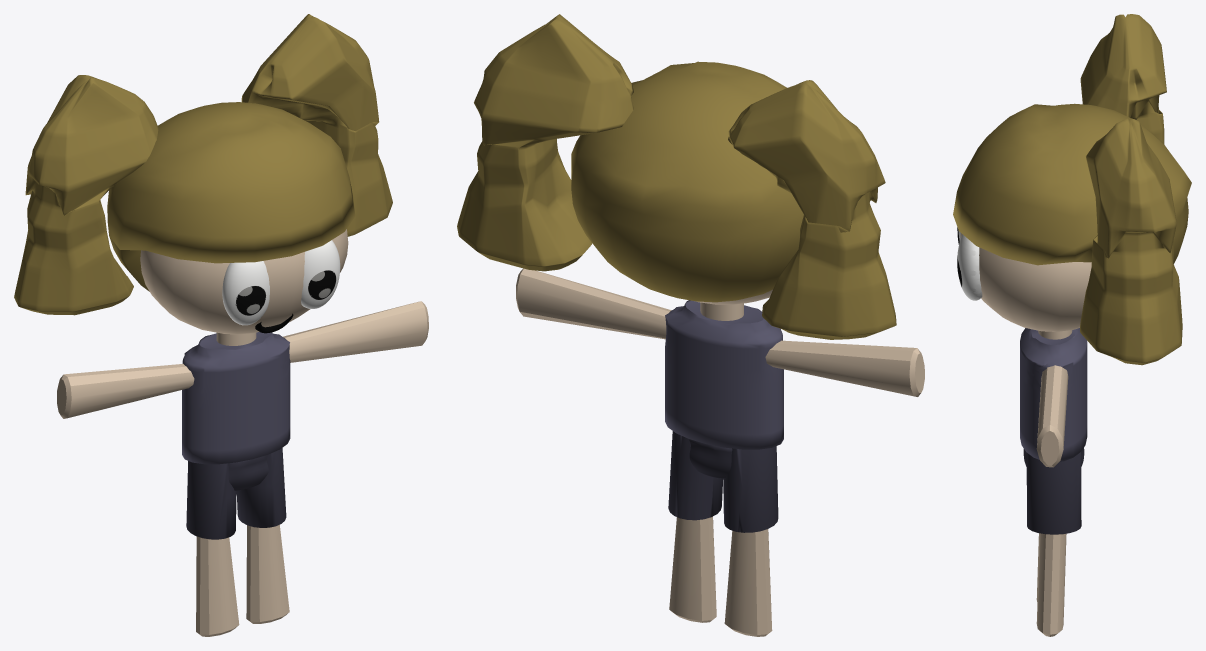
File: fefe.fbx
3 views of the same model, side by side, from view 1: azimuth 30°, elevation 25°; view 2: azimuth 150°, elevation 25°; view 3: azimuth 270°, elevation 25° (orthographic). The views are drawn at different scales.
Parts seen in each view (by area): view 1: pasted__polySurface13, polySurface2, polySurface15, polySurface1, polySurface5, polySurface4, polySurface3, polySurface8, polySurface10, polySurface9, polySurface14, polySurface7; view 2: pasted__polySurface13, polySurface2, polySurface1, polySurface5, polySurface4, polySurface3, polySurface8, polySurface9, polySurface7, polySurface11; view 3: pasted__polySurface13, polySurface15, polySurface2, polySurface9, polySurface3, polySurface1, polySurface14.
Boxes of the visible parts, x1,y1,x2,y2 form: pasted__polySurface13: [14, 14, 392, 315]; polySurface2: [182, 332, 290, 464]; polySurface15: [140, 229, 348, 334]; polySurface1: [282, 301, 428, 362]; polySurface5: [57, 364, 194, 418]; polySurface4: [196, 536, 239, 636]; polySurface3: [246, 525, 289, 623]; polySurface8: [186, 461, 236, 539]; polySurface10: [222, 261, 269, 325]; polySurface9: [236, 448, 286, 527]; polySurface14: [301, 240, 340, 308]; polySurface7: [228, 455, 268, 490]; pasted__polySurface13: [457, 14, 896, 339]; polySurface2: [665, 300, 783, 449]; polySurface1: [516, 268, 671, 339]; polySurface5: [765, 340, 924, 396]; polySurface4: [724, 529, 772, 636]; polySurface3: [669, 516, 716, 622]; polySurface8: [723, 446, 778, 532]; polySurface9: [668, 431, 723, 520]; polySurface7: [689, 439, 732, 478]; polySurface11: [700, 302, 743, 320]; pasted__polySurface13: [953, 14, 1191, 365]; polySurface15: [960, 233, 1091, 331]; polySurface2: [1020, 328, 1087, 461]; polySurface9: [1027, 452, 1081, 534]; polySurface3: [1036, 533, 1066, 636]; polySurface1: [1036, 365, 1068, 467]; polySurface14: [957, 234, 982, 300].
Bounding box in the file's own units: 3.88 × 5.35 × 2.1.
11 materials, 2 textured.
